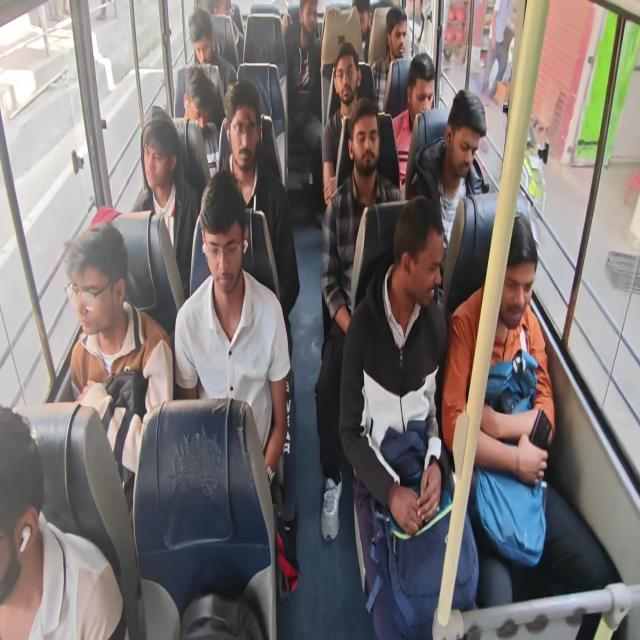person: (0, 391, 82, 640), (186, 189, 256, 326), (63, 222, 123, 327), (388, 211, 445, 315), (479, 234, 532, 344), (440, 106, 492, 201), (324, 47, 381, 129), (350, 110, 397, 201), (215, 99, 265, 182), (135, 120, 175, 214), (185, 9, 234, 69), (292, 0, 328, 55), (399, 58, 428, 123), (352, 0, 384, 57), (386, 14, 416, 69), (183, 73, 209, 133), (210, 0, 253, 34)
